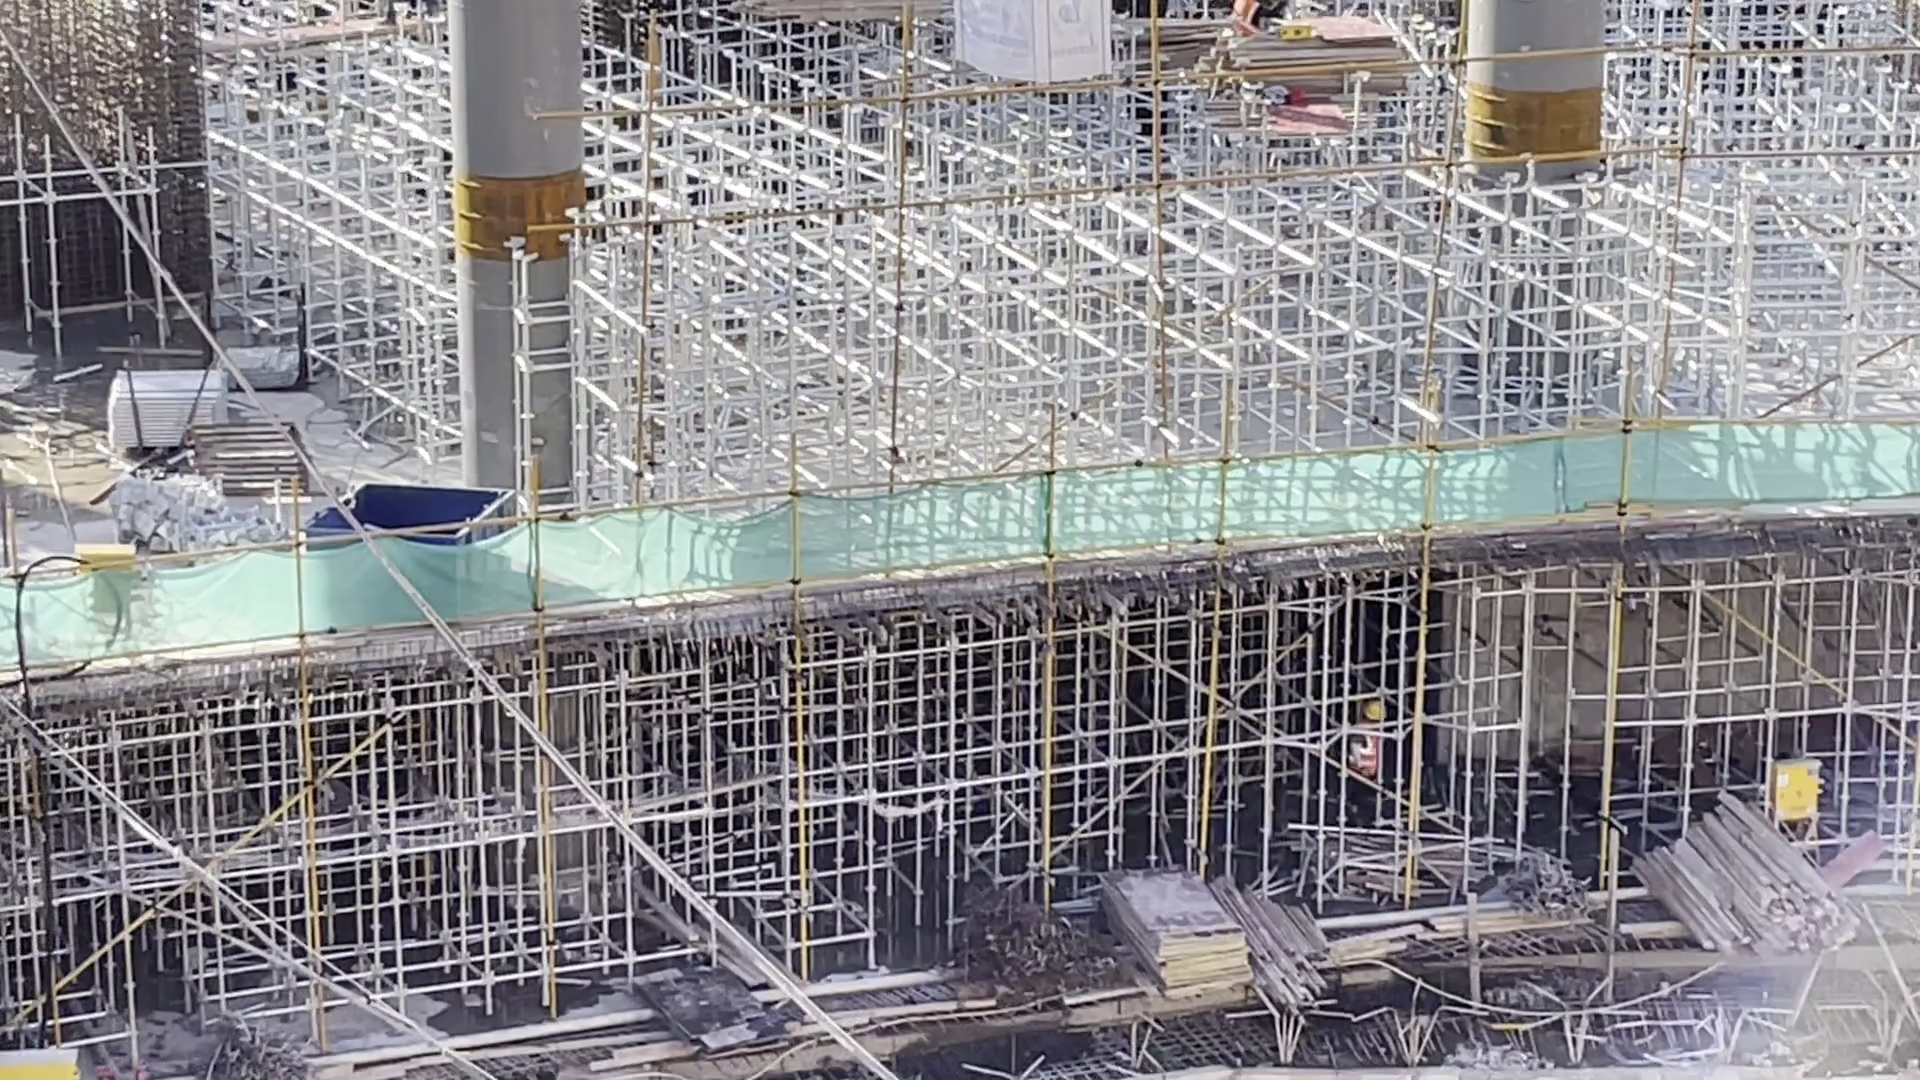board: (1089, 861, 1258, 994), (1225, 16, 1422, 88)
ebox: (1767, 754, 1821, 829), (74, 539, 140, 567)
hopper: (307, 477, 529, 522)
scaffold: (98, 368, 236, 434)
vest: (1228, 1, 1265, 29)
wood: (1626, 786, 1863, 961), (1255, 889, 1336, 1011)
